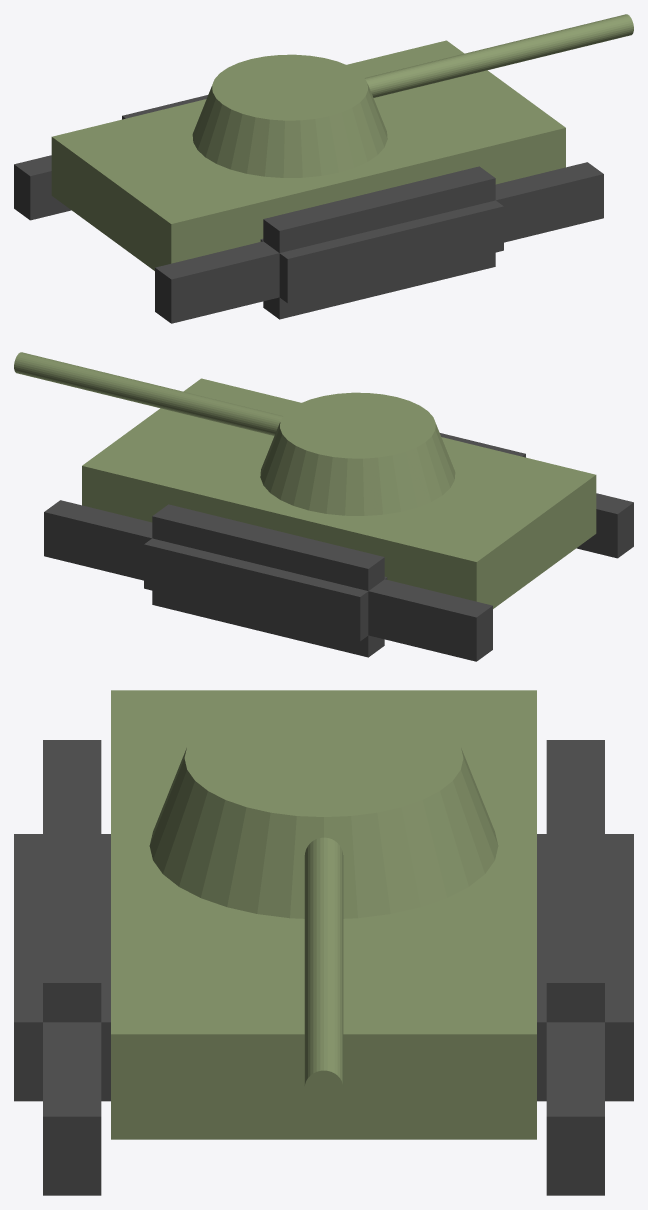
The model's file is tank.glb.
The picture shows the model from 3 angles, top to bottom: view 1: azimuth 30°, elevation 25°; view 2: azimuth 150°, elevation 25°; view 3: azimuth 270°, elevation 25°; orthographic projection. The views are drawn at different scales.
Visible parts, largest first — view 1: Hull, TrackR, Turret, Barrel, TrackL; view 2: Hull, TrackL, Turret, Barrel, TrackR; view 3: Hull, Turret, TrackL, TrackR, Barrel.
Boxes of the visible parts, x1=… form: Hull: x1=51, y1=40, x2=565, y2=270; TrackR: x1=155, y1=162, x2=603, y2=323; Turret: x1=192, y1=54, x2=387, y2=177; Barrel: x1=365, y1=14, x2=633, y2=97; TrackL: x1=14, y1=95, x2=207, y2=220; Hull: x1=82, y1=378, x2=596, y2=608; TrackL: x1=44, y1=500, x2=492, y2=661; Turret: x1=260, y1=392, x2=455, y2=515; Barrel: x1=14, y1=352, x2=282, y2=435; TrackR: x1=440, y1=433, x2=633, y2=558; Hull: x1=111, y1=690, x2=536, y2=1139; Turret: x1=149, y1=699, x2=498, y2=918; TrackL: x1=537, y1=740, x2=633, y2=1195; TrackR: x1=14, y1=740, x2=110, y2=1195; Barrel: x1=304, y1=837, x2=343, y2=1105.
Size of the model in its own units: 5.7 by 1.55 by 3.2.
